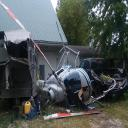helicopter: (38, 42, 97, 109)
